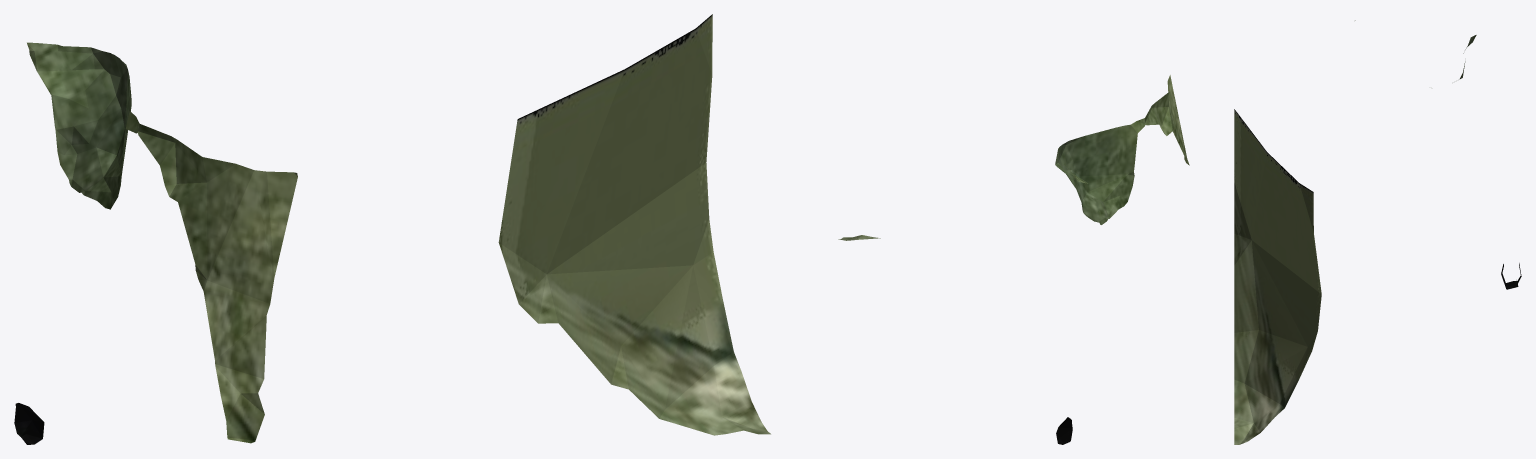
3 renders of one model, left to right at view 1: azimuth 30°, elevation 25°; view 2: azimuth 150°, elevation 25°; view 3: azimuth 270°, elevation 25°, orthographic. The views are drawn at different scales.
Bounding box in the file's own units: 5.9 × 4.21 × 4.02.
Materials: 1 (1 with a texture image).
